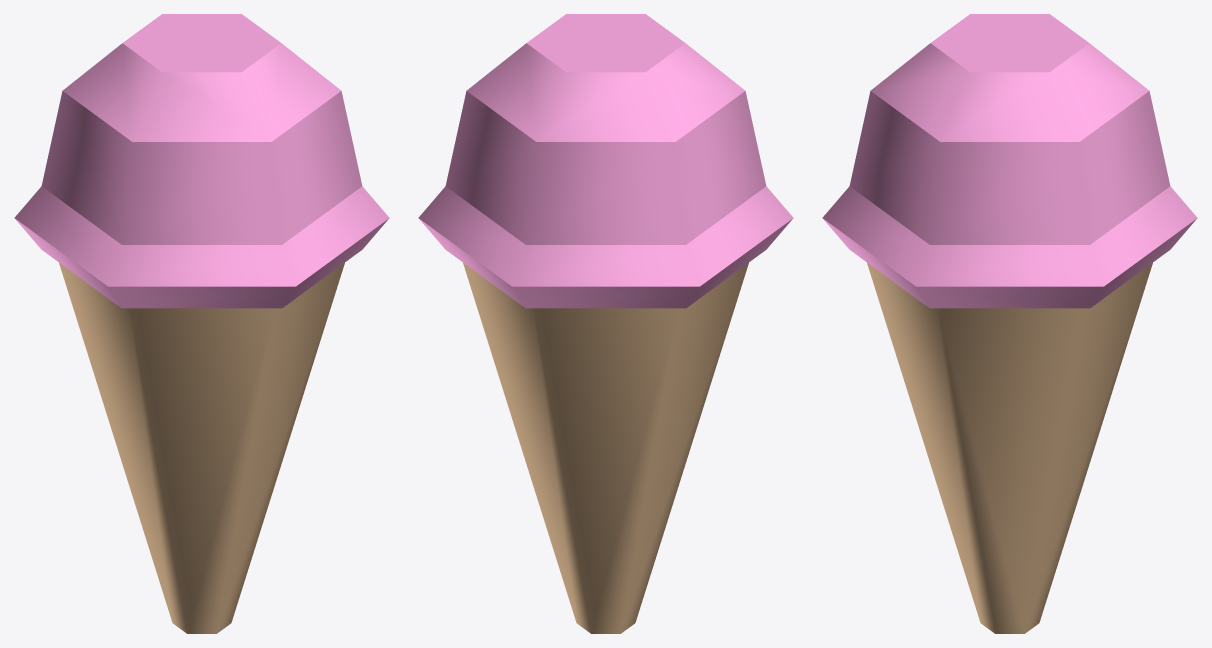
Rendered from iceCream.obj.
3 views of the same model, side by side, from view 1: azimuth 30°, elevation 25°; view 2: azimuth 150°, elevation 25°; view 3: azimuth 270°, elevation 25° (orthographic).
Visible parts, largest first — view 1: iceCream; view 2: iceCream; view 3: iceCream.
Boxes of the visible parts, x1,y1,x2,y2 form: iceCream: [14, 14, 389, 633]; iceCream: [418, 14, 793, 633]; iceCream: [822, 14, 1197, 633].
Bounding box in the file's own units: 0.2352 × 0.4632 × 0.2716.
